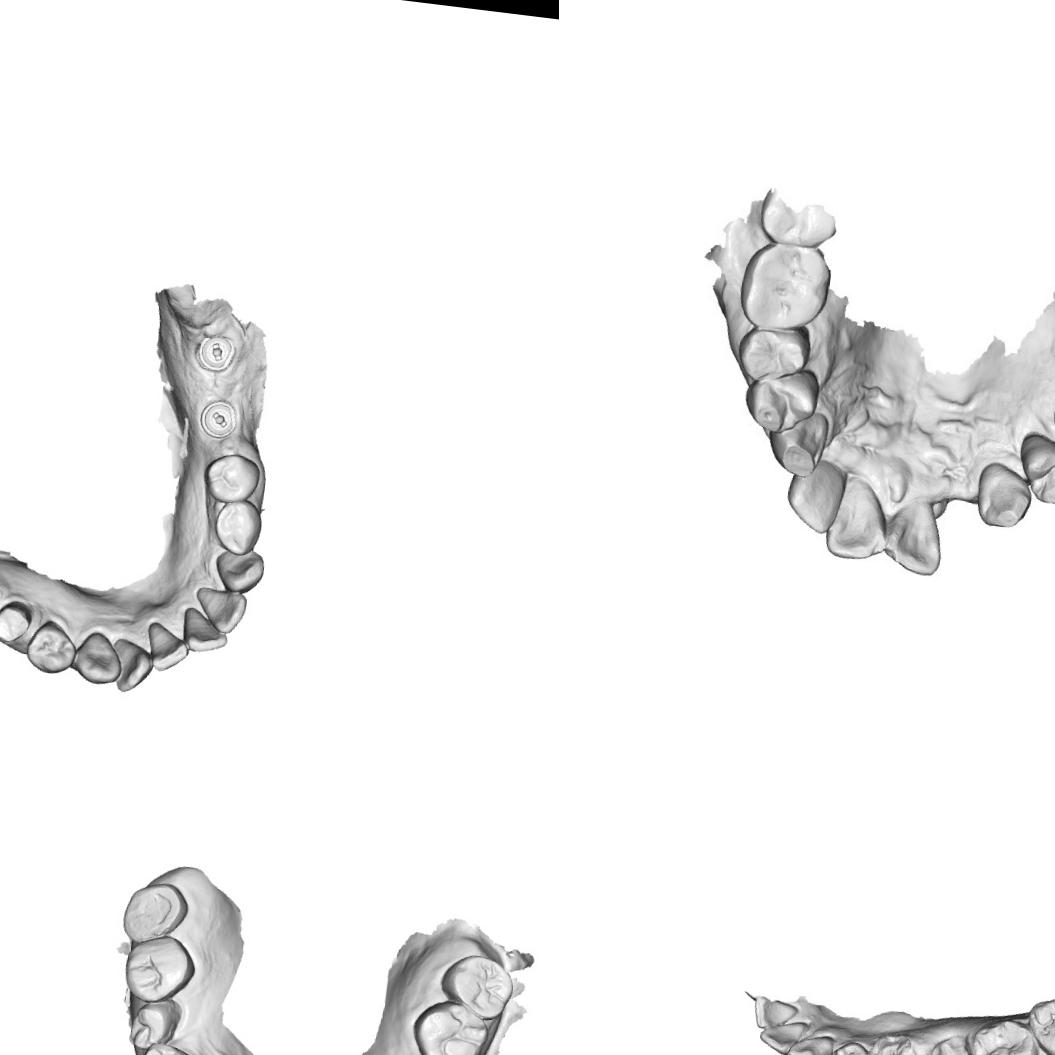canine: (970, 457, 1038, 533), (767, 410, 834, 481), (67, 628, 126, 688), (211, 546, 267, 596), (825, 1037, 875, 1055)
crown: (0, 595, 35, 646)
implant_minus: (194, 332, 238, 375), (197, 397, 240, 441)
incisor: (823, 478, 888, 564), (878, 501, 946, 578), (781, 459, 841, 535), (107, 637, 156, 696), (192, 585, 248, 636), (178, 605, 232, 657), (142, 620, 192, 675), (756, 1016, 809, 1055), (751, 994, 801, 1033), (783, 1030, 836, 1055)
inlay: (867, 1033, 918, 1055)
molar: (734, 238, 836, 335), (121, 928, 200, 1008), (436, 950, 518, 1023), (406, 995, 494, 1055), (119, 878, 192, 950), (965, 1014, 1044, 1055), (1022, 991, 1055, 1055)
premolar: (741, 362, 825, 439), (733, 323, 812, 390), (200, 449, 262, 507), (127, 994, 184, 1055), (22, 618, 80, 677), (211, 496, 265, 558), (1016, 432, 1055, 510), (135, 1040, 200, 1055)
